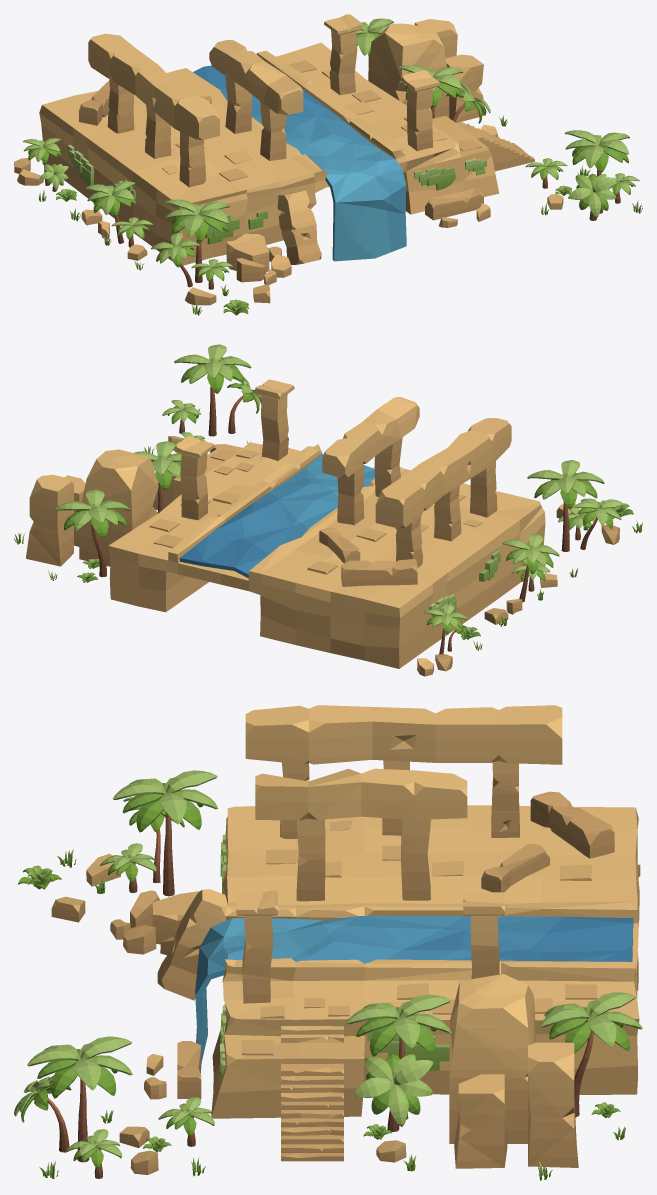
Rendered from tropical_ruins.glb.
3 renders of one model, top to bottom at view 1: azimuth 30°, elevation 25°; view 2: azimuth 150°, elevation 25°; view 3: azimuth 270°, elevation 25°, orthographic. The views are drawn at different scales.
Visible parts, largest first — view 1: desert stone ruins 2_37, waterfall 12_57, desert stone arche 3_52, desert stone arche 2_5, desert stone large_43, desert stones group_1, desert stone large 4_36, desert stone large 7 (1)_3, desert stone large 7_0, palm tree large_12, palm tree large (1)_56, desert stone large 3_20 (+15 smaller); view 2: desert stone ruins 2_37, desert stone arche 3_52, waterfall 12_57, desert stone arche 2_5, desert stone large_43, desert stone large 2_4, desert stone large 7 (1)_3, desert stone large 7_0, palm tree bent (1)_54, palm tree large (1)_56, palm tree large_12, desert stone large 6_32 (+7 smaller); view 3: desert stone ruins 2_37, desert stone arche 3_52, waterfall 12_57, desert stone arche 2_5, desert stone large_43, desert stone large 2_4, desert stone large 3_20, palm tree large_12, palm tree large (1)_56, palm tree bent (1)_54, palm tree large (2)_49, palm tree tilted (1)_40 (+13 smaller).
Boxes of the visible parts, box(x1,y1,x2,y2) form: desert stone ruins 2_37: box(39, 42, 534, 265); waterfall 12_57: box(193, 65, 406, 261); desert stone arche 3_52: box(88, 33, 219, 187); desert stone arche 2_5: box(209, 40, 303, 160); desert stone large_43: box(368, 23, 449, 117); desert stones group_1: box(226, 233, 291, 285); desert stone large 4_36: box(277, 190, 321, 264); desert stone large 7 (1)_3: box(324, 14, 362, 95); desert stone large 7_0: box(401, 70, 439, 151); palm tree large_12: box(164, 199, 229, 282); palm tree large (1)_56: box(564, 130, 629, 213); desert stone large 3_20: box(445, 54, 485, 122); desert stone ruins 2_37: box(108, 442, 545, 668); desert stone arche 3_52: box(375, 418, 511, 567); waterfall 12_57: box(179, 454, 374, 578); desert stone arche 2_5: box(322, 397, 419, 525); desert stone large_43: box(79, 449, 158, 566); desert stone large 2_4: box(26, 474, 73, 566); desert stone large 7 (1)_3: box(174, 436, 214, 519); desert stone large 7_0: box(254, 379, 294, 460); palm tree bent (1)_54: box(53, 489, 130, 577); palm tree large (1)_56: box(174, 344, 251, 436); palm tree large_12: box(527, 460, 604, 551); desert stone large 6_32: box(341, 559, 417, 586); desert stone ruins 2_37: box(211, 805, 639, 1161); desert stone arche 3_52: box(245, 705, 562, 838); waterfall 12_57: box(195, 916, 633, 1073); desert stone arche 2_5: box(255, 768, 467, 901); desert stone large_43: box(449, 974, 536, 1143); desert stone large 2_4: box(528, 1042, 578, 1167); desert stone large 3_20: box(454, 1074, 507, 1168); palm tree large_12: box(113, 770, 218, 896); palm tree large (1)_56: box(27, 1036, 132, 1162); palm tree bent (1)_54: box(540, 992, 642, 1116); palm tree large (2)_49: box(346, 994, 451, 1119); palm tree tilted (1)_40: box(353, 1054, 433, 1131).
Bounding box in the file's own units: 19.54 × 6.89 × 15.83.
1 material, 1 textured.
